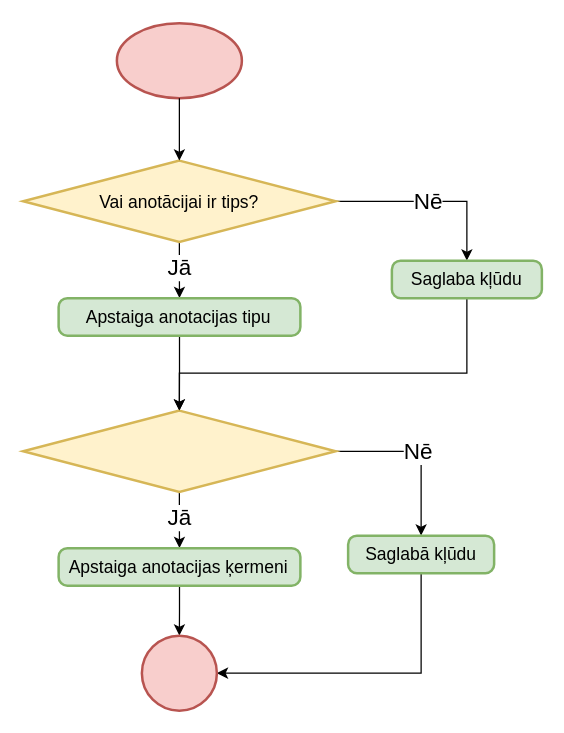
Image size: 564x733. Some labels were removed from this diagram. The shapes that lost their labels are listed below. From the top down, each one's box as (x1, y1, x2, y2) in pixels, then its label:
(115, 21, 242, 99): Sākums
(21, 409, 336, 492): Vai anotācijai ir dots ķermenis?
(140, 634, 218, 711): Beigas
